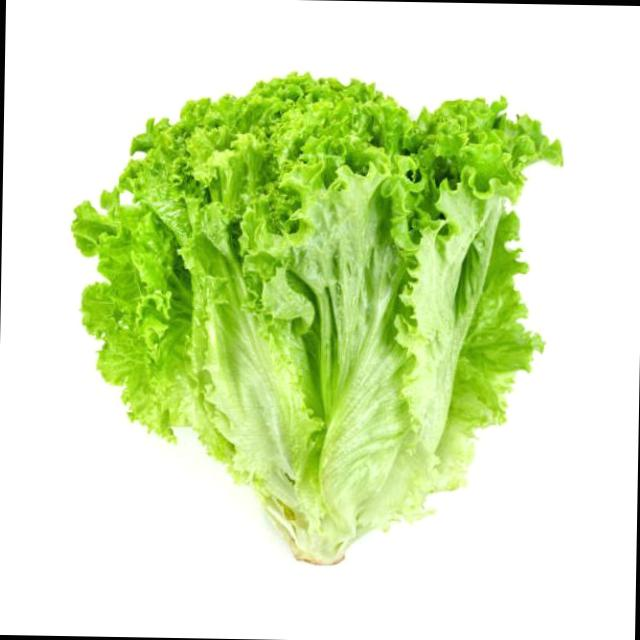Lettuce-Ready-to-Harvest: (69, 74, 564, 569)
